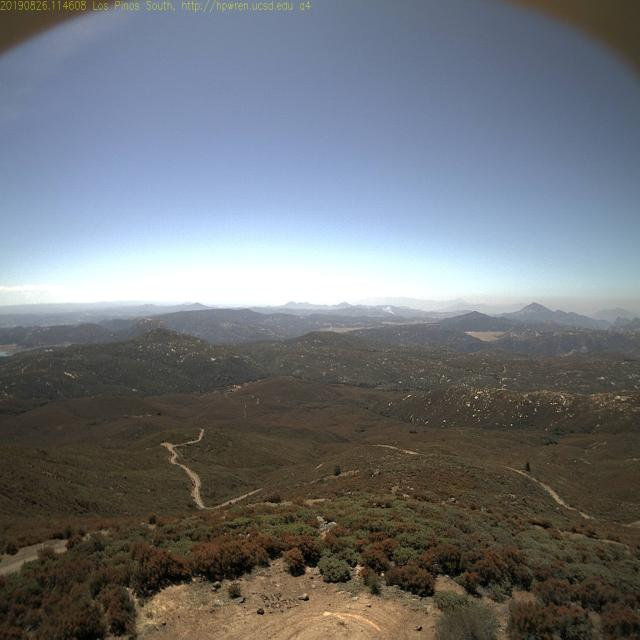smoke: (383, 303, 395, 316)
